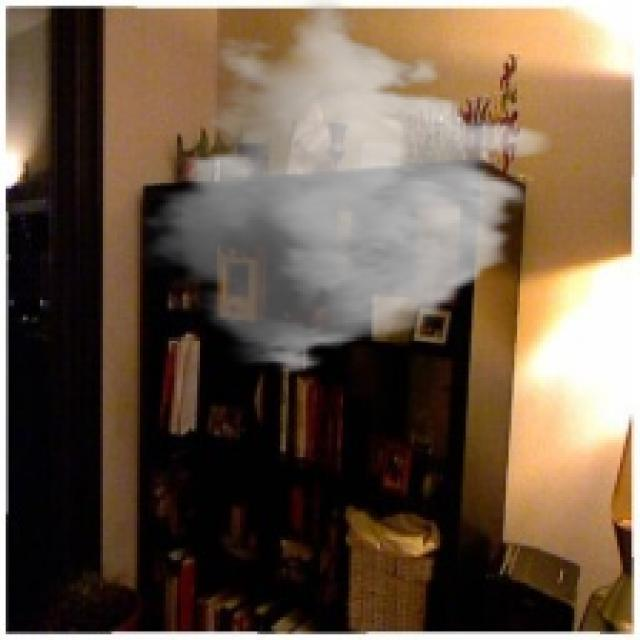Smoke: (135, 0, 554, 377)
